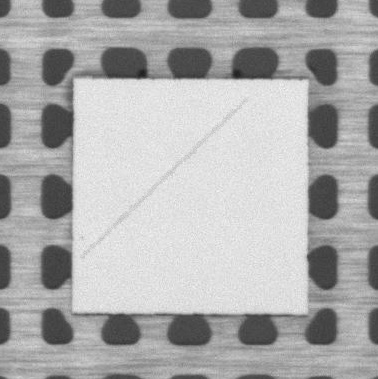DIE_CRACK: (82, 99, 246, 258)
